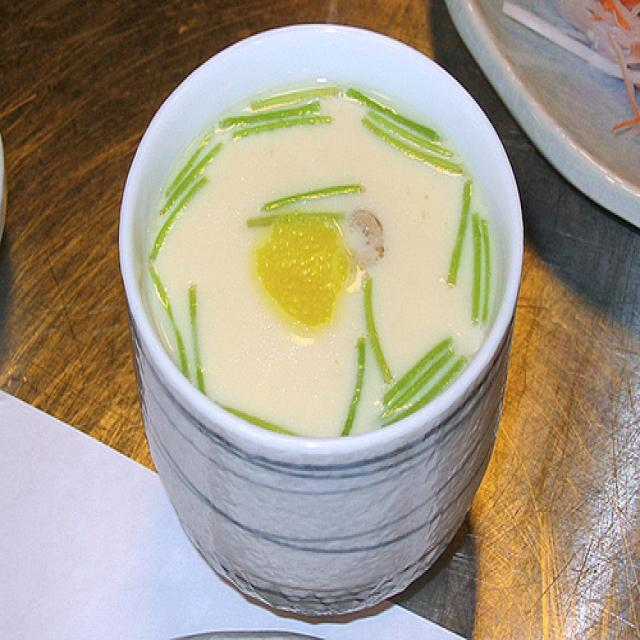鸡蛋料理: (113, 3, 531, 628)
